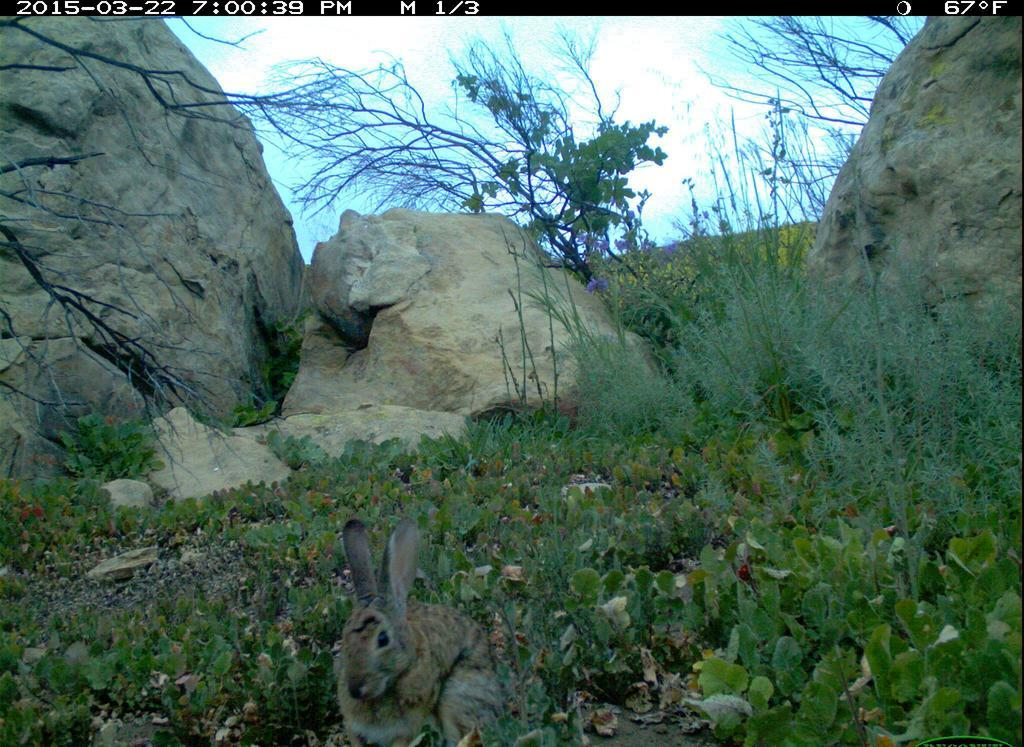rabbit: (333, 518, 507, 745)
